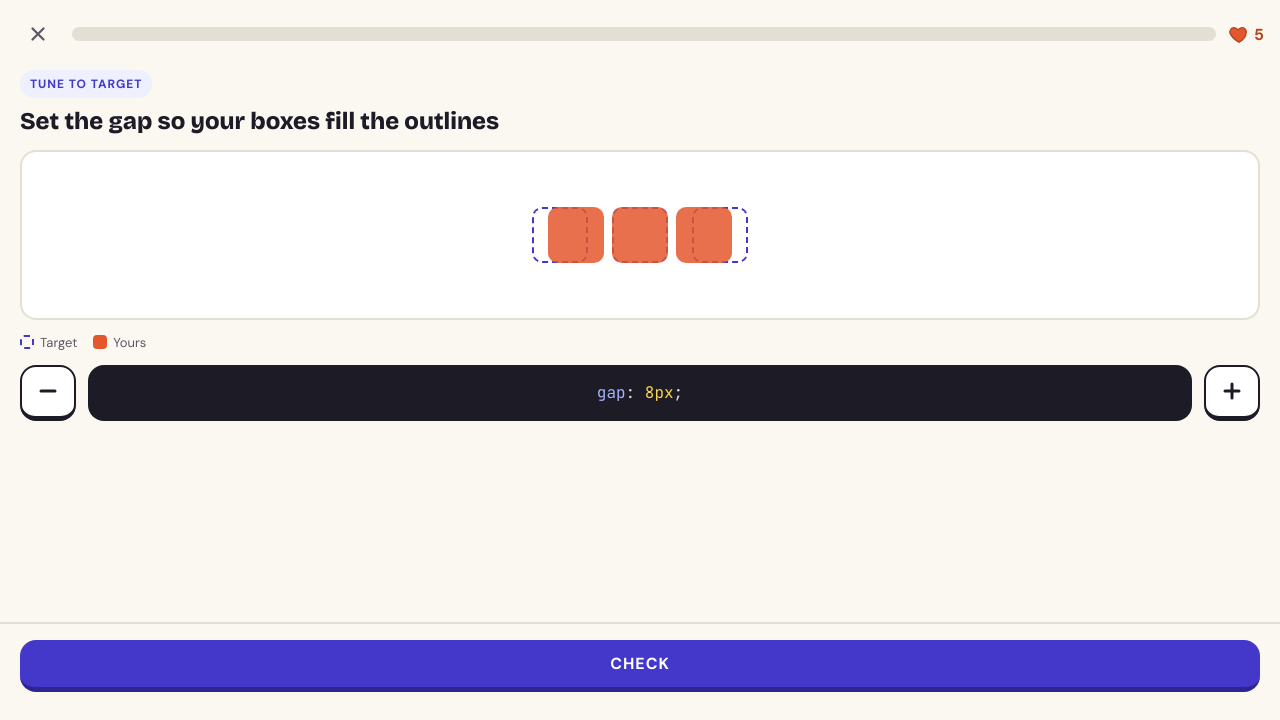
Tune to target › explains the difference when wrong
Click the button "Check" at (640, 666), box [20, 640, 1260, 692]
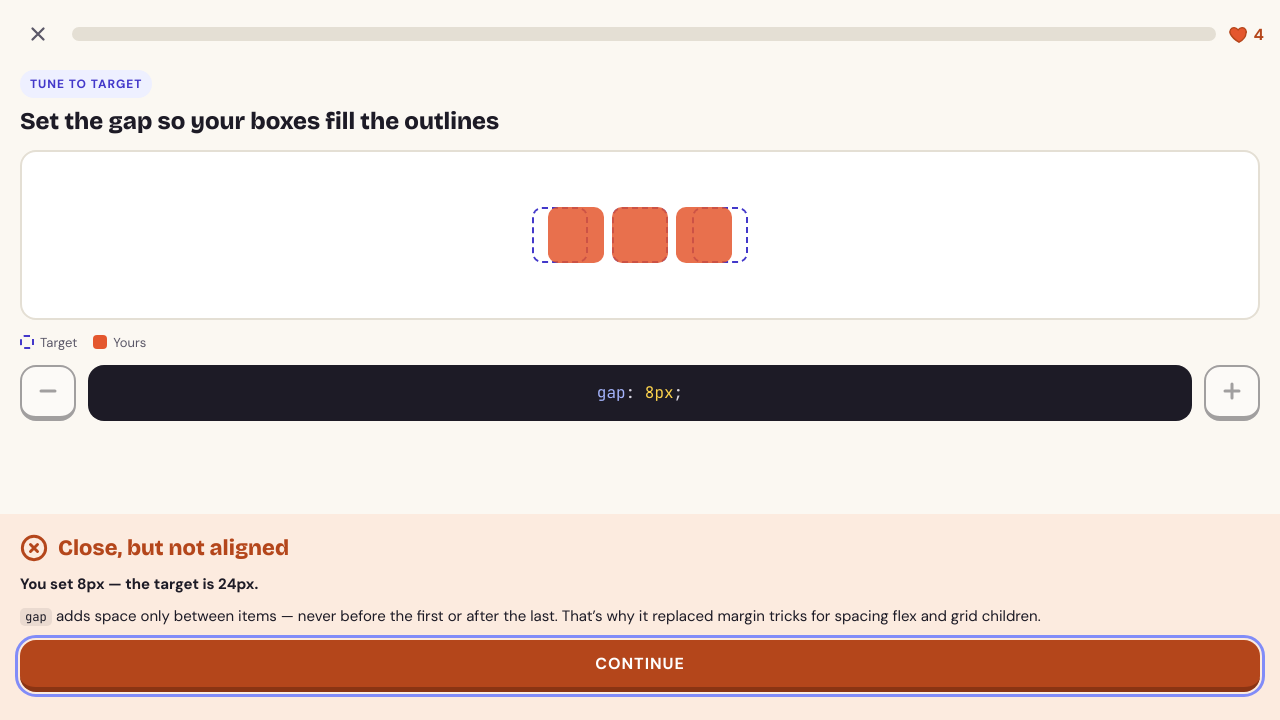
Check: the element named "Feedback" shows "Close, but not aligned", box [58, 535, 289, 561]
Check: the element named "Feedback" shows "You set 8px — the target is 24px.", box [20, 574, 258, 594]
